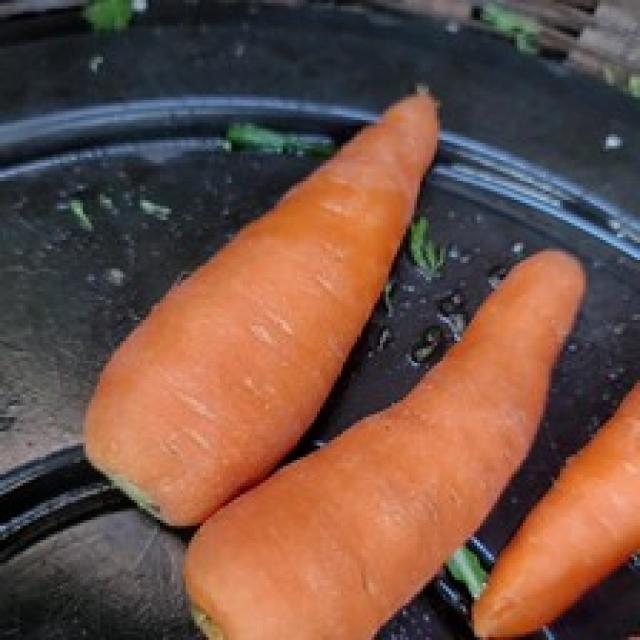Fresh_Carrot: (186, 252, 584, 640), (86, 98, 434, 524), (472, 384, 639, 638), (475, 386, 640, 637)
